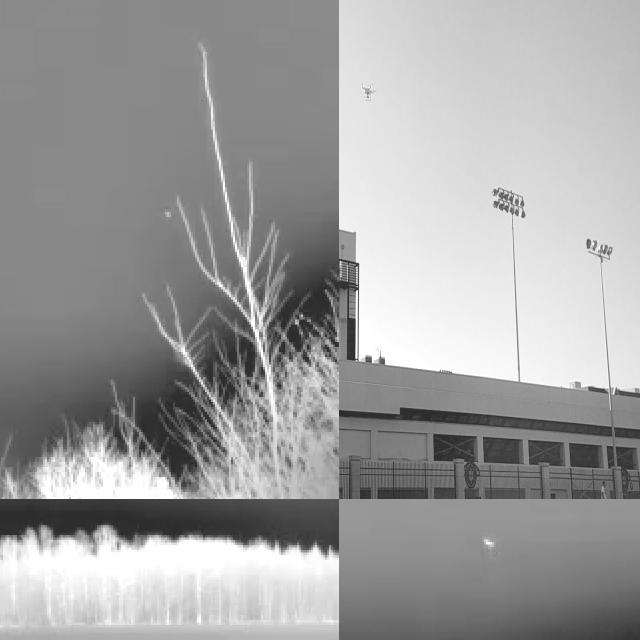0: (157, 204, 173, 230)
1: (471, 528, 507, 568)
drone: (354, 77, 378, 106)
